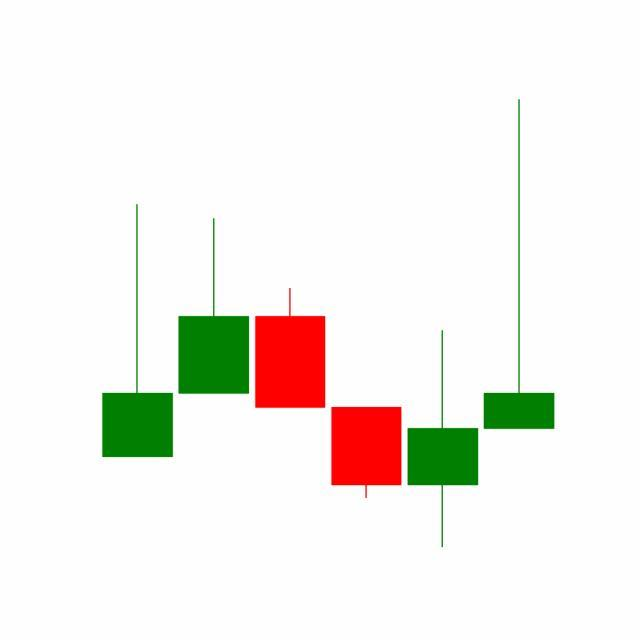Spinning Top: (404, 328, 482, 550)
